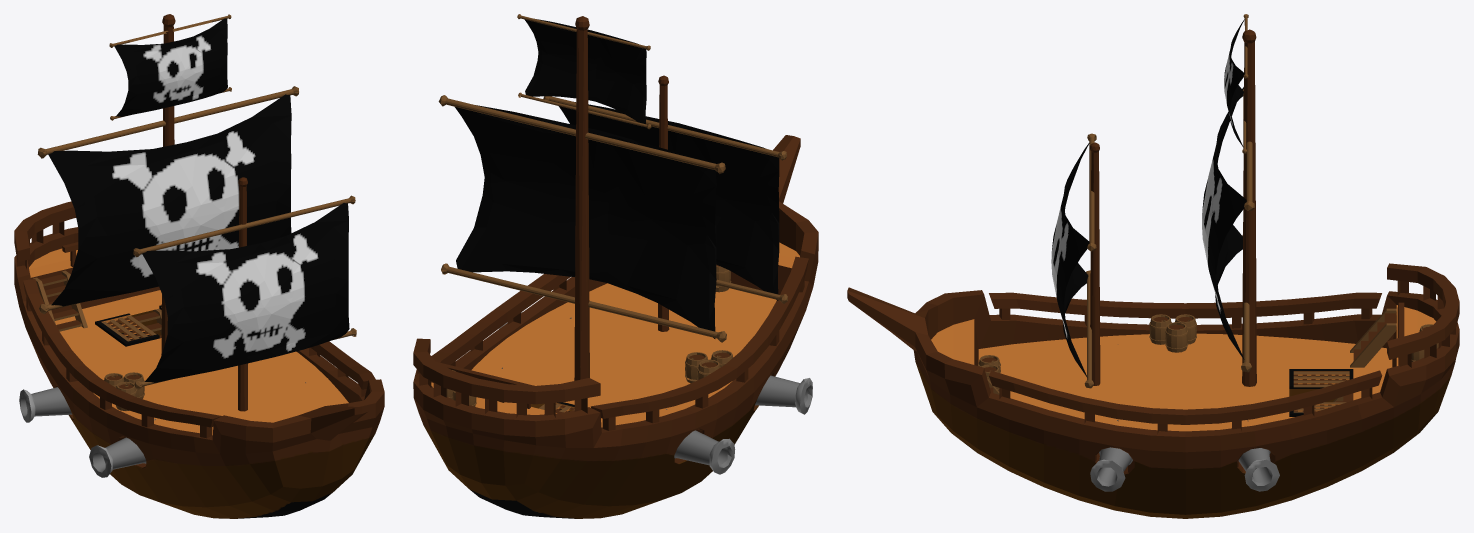
Rendered from Ship3.fbx.
The picture shows the model from 3 angles, left to right: view 1: azimuth 30°, elevation 25°; view 2: azimuth 150°, elevation 25°; view 3: azimuth 270°, elevation 25°; orthographic projection. The views are drawn at different scales.
Visible parts, largest first — view 1: Cube; view 2: Cube; view 3: Cube.
Part boxes in pixels (x1,y1,x2,y2): Cube: (14, 14, 384, 518); Cube: (413, 14, 818, 518); Cube: (847, 14, 1459, 518).
Bounding box in the file's own units: 1.98 × 3.13 × 3.66.
